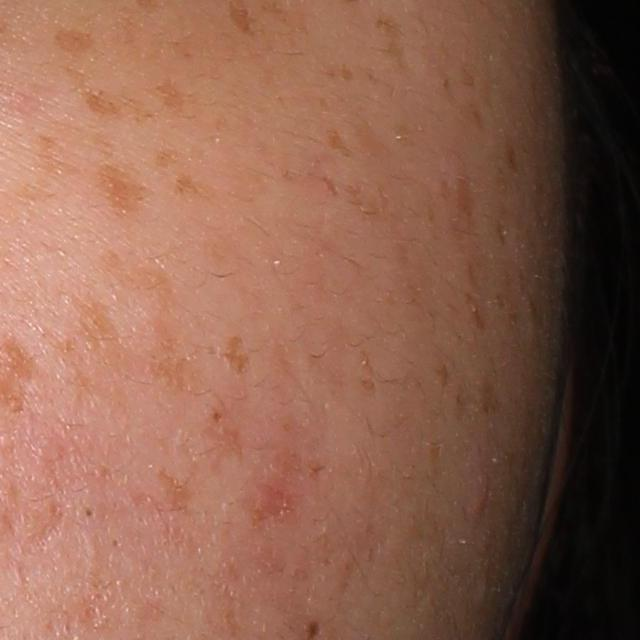comedo: (80, 501, 101, 524)
melasma: (47, 286, 212, 420), (51, 63, 158, 128), (5, 129, 92, 205), (98, 160, 154, 219), (439, 74, 486, 138), (369, 15, 410, 75), (51, 22, 109, 58), (461, 260, 488, 335), (153, 73, 190, 115), (223, 334, 253, 380), (356, 119, 392, 156), (173, 169, 213, 201), (149, 145, 185, 172), (325, 129, 354, 159), (336, 59, 359, 83), (318, 173, 340, 198), (432, 366, 447, 395)
papule: (464, 475, 496, 519)
